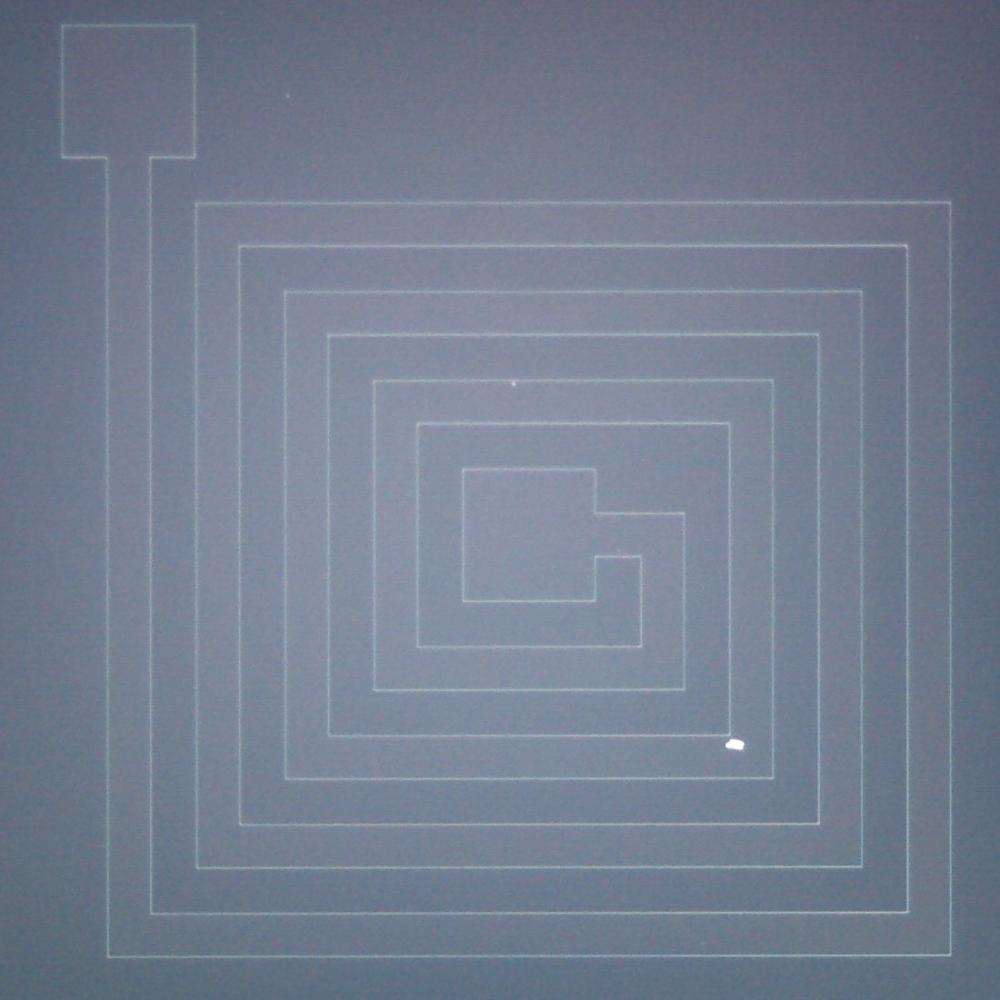dot: (726, 736, 744, 755), (512, 381, 516, 386)
